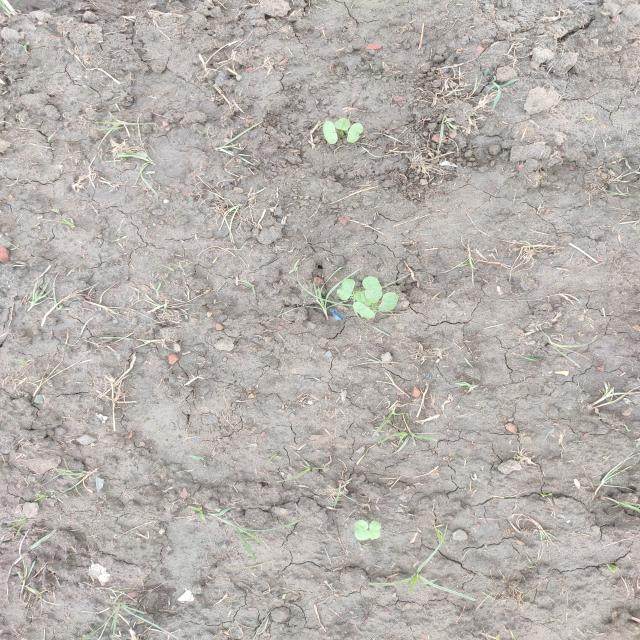seedling: (362, 276, 383, 301), (378, 292, 399, 312), (352, 301, 375, 318), (337, 279, 355, 300), (354, 291, 379, 306), (322, 121, 338, 144), (347, 123, 363, 143), (354, 520, 369, 541), (368, 520, 381, 539), (334, 117, 350, 130)
